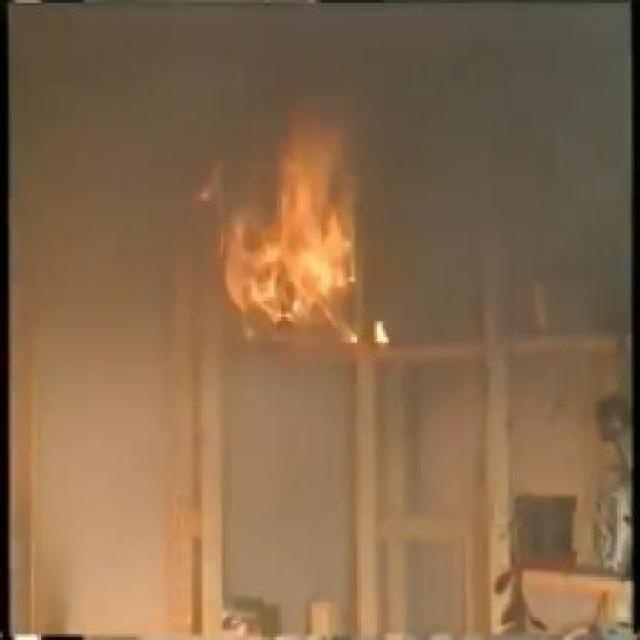fire: (200, 122, 390, 344)
